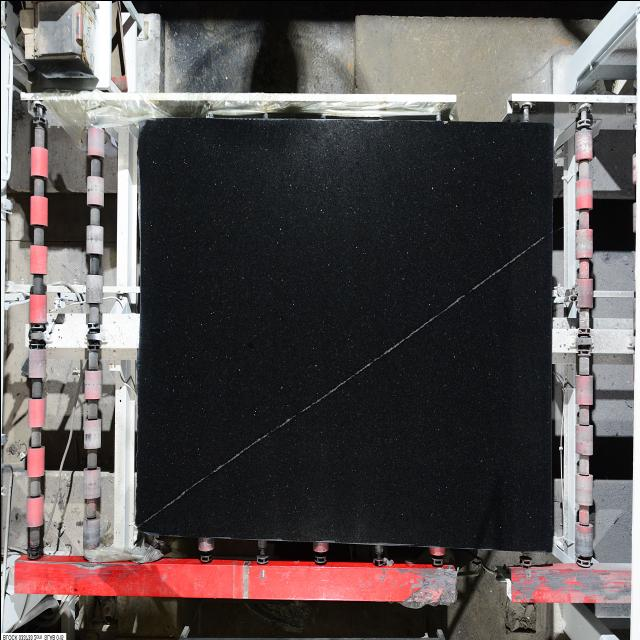chapa: (135, 117, 551, 550)
